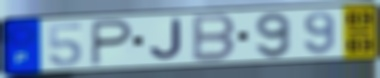5: (47, 22, 84, 68)
9: (253, 11, 293, 59), (301, 11, 338, 56)
B: (190, 13, 238, 64)
J: (147, 17, 185, 62)
P: (88, 18, 135, 68)
